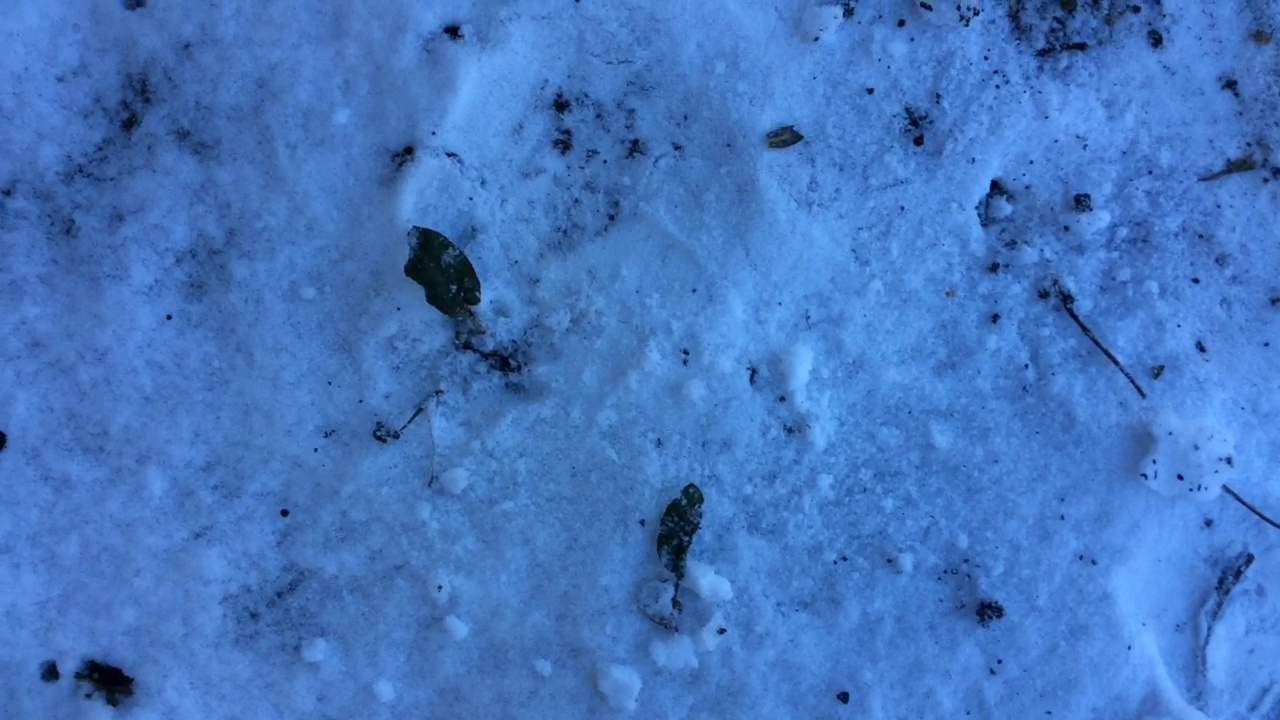root: (455, 320, 496, 360), (655, 591, 701, 624)
rumex: (401, 223, 502, 364), (648, 477, 718, 628)
